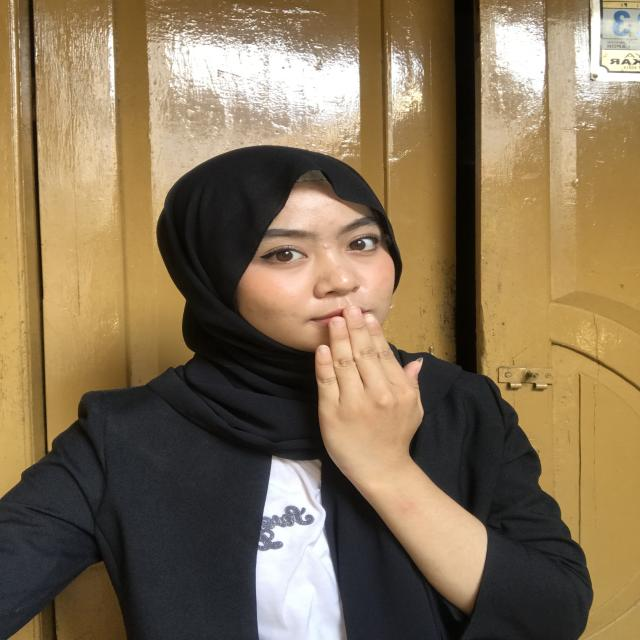ganteng: (287, 296, 466, 496)
